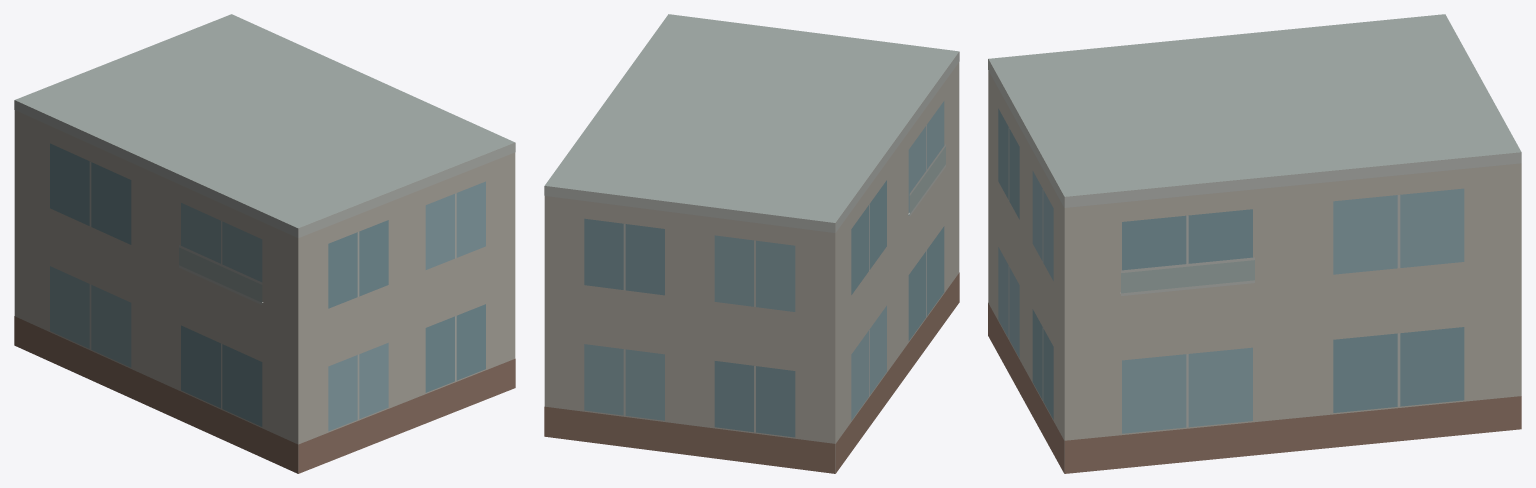
The model's file is survey-upis-32686889.glb.
3 views of the same model, side by side, from view 1: azimuth 30°, elevation 25°; view 2: azimuth 150°, elevation 25°; view 3: azimuth 270°, elevation 25° (orthographic). The views are drawn at different scales.
Parts seen in each view (by area): view 1: survey-upis-32686889.tmp; view 2: survey-upis-32686889.tmp; view 3: survey-upis-32686889.tmp.
Boxes of the visible parts, x1=… form: survey-upis-32686889.tmp: x1=14, y1=14, x2=515, y2=473; survey-upis-32686889.tmp: x1=544, y1=14, x2=959, y2=473; survey-upis-32686889.tmp: x1=988, y1=14, x2=1521, y2=473.
Bounding box in the file's own units: 8.65 × 6.1 × 10.66.
